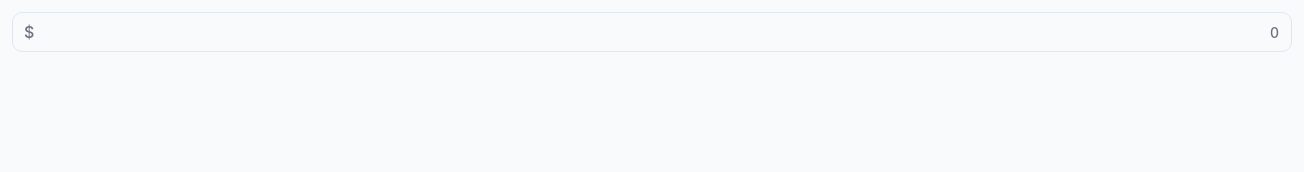
CurrencyInput › tells the user when a minus sign is typed
Type "-500" into the field at (652, 32), box [12,12,1292,52]
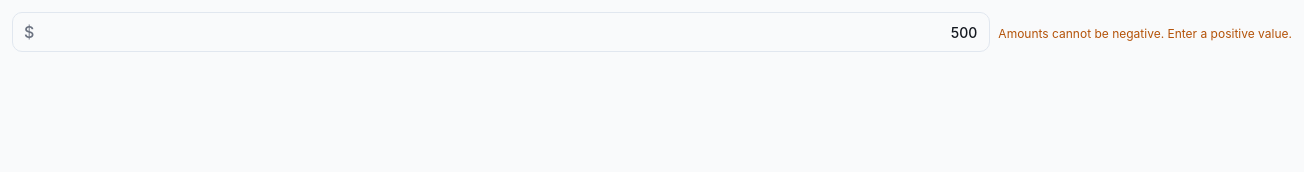
Expected: the message shows "cannot be negative", [998,26,1292,41]
